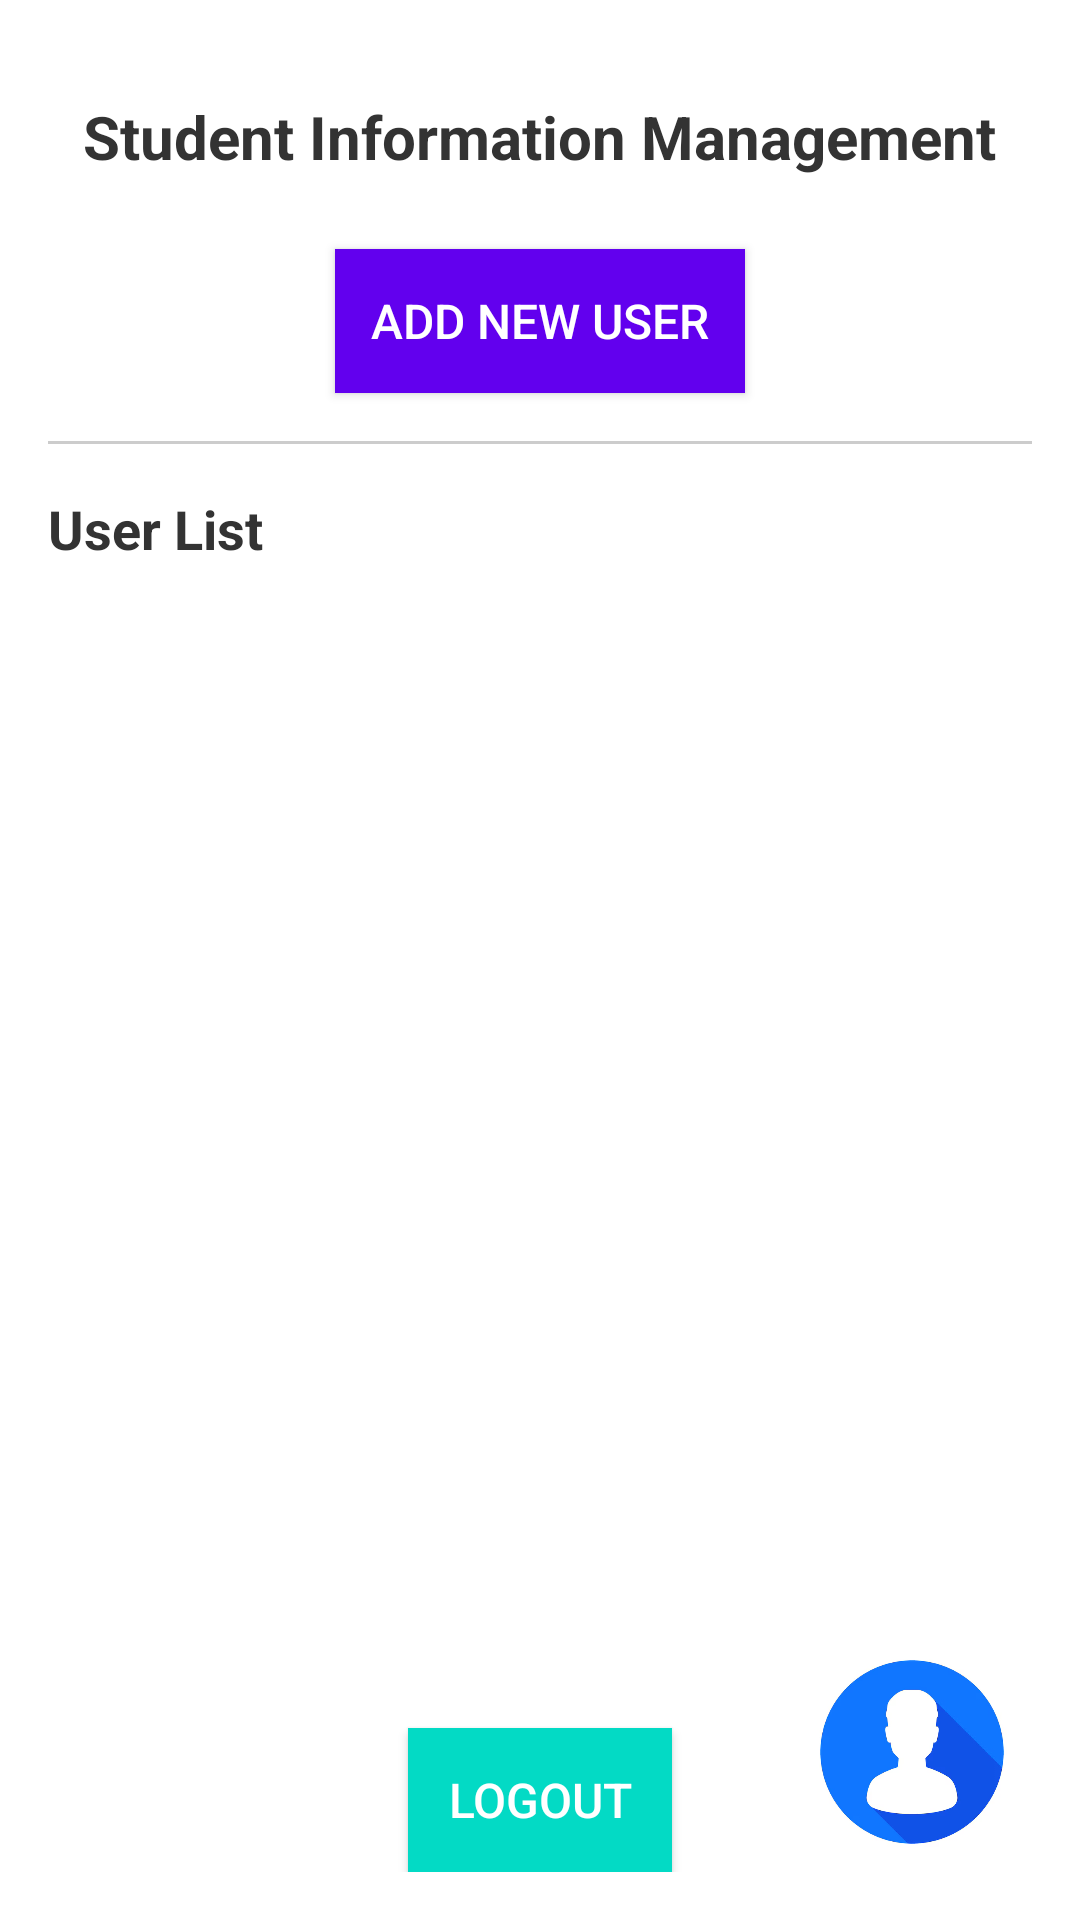

Where to tap for icons on this 1080 x 1920 app screen, as point (x, y):
Profile Image: point (912, 1752)
